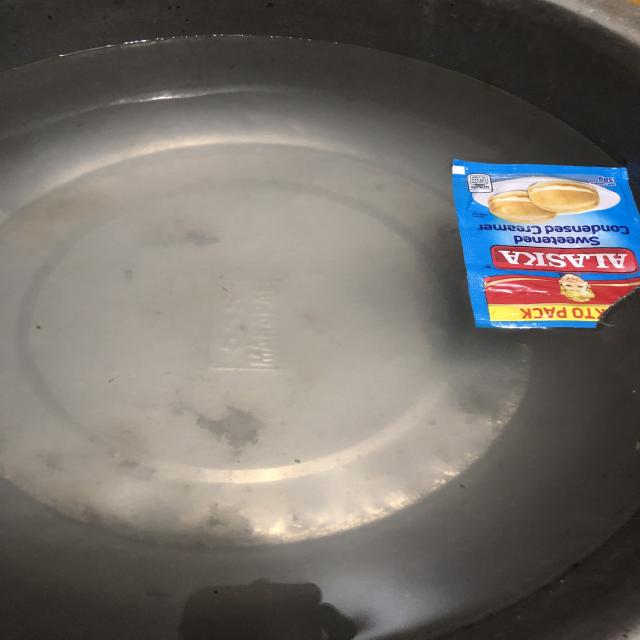Plastic Wrapper: (445, 148, 640, 350)
